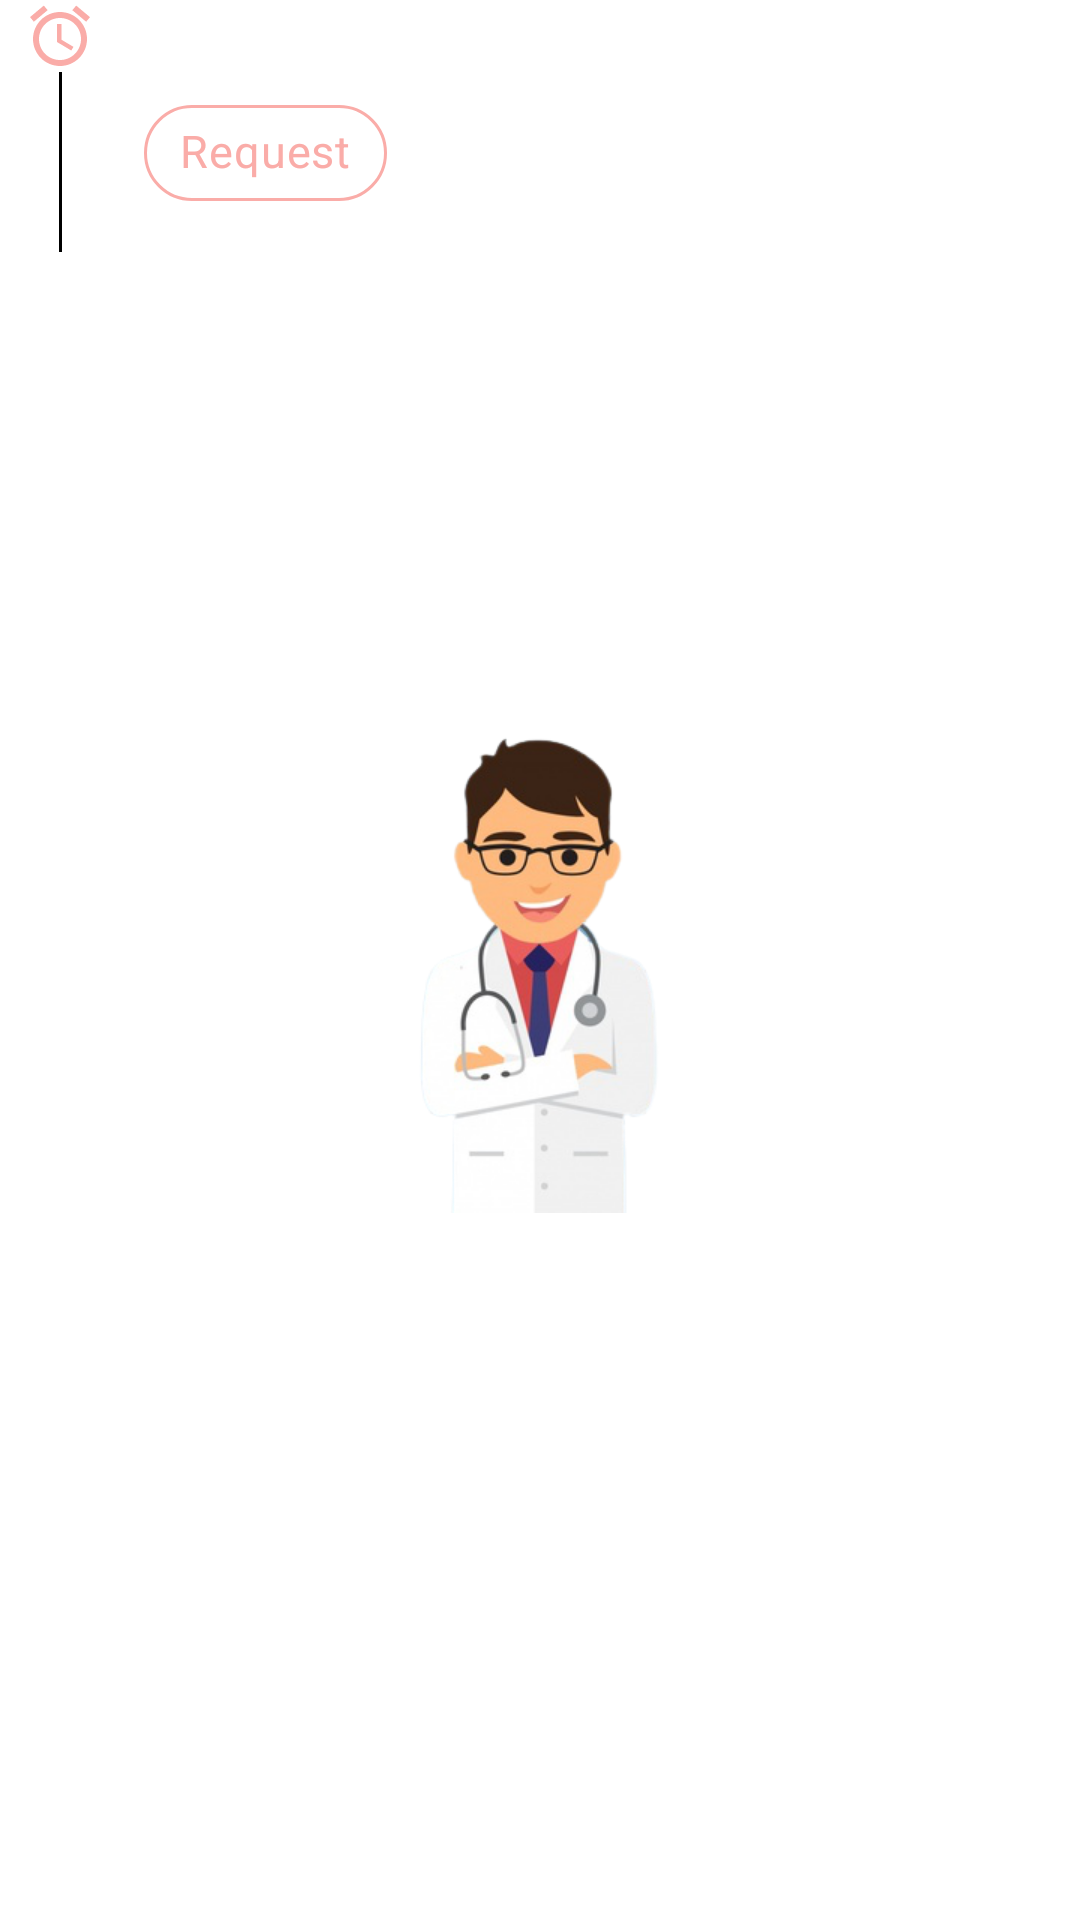

Icons on this 1080*1920 Android screen, each with the point to tap as [x,y]:
alarm: [60,36]
